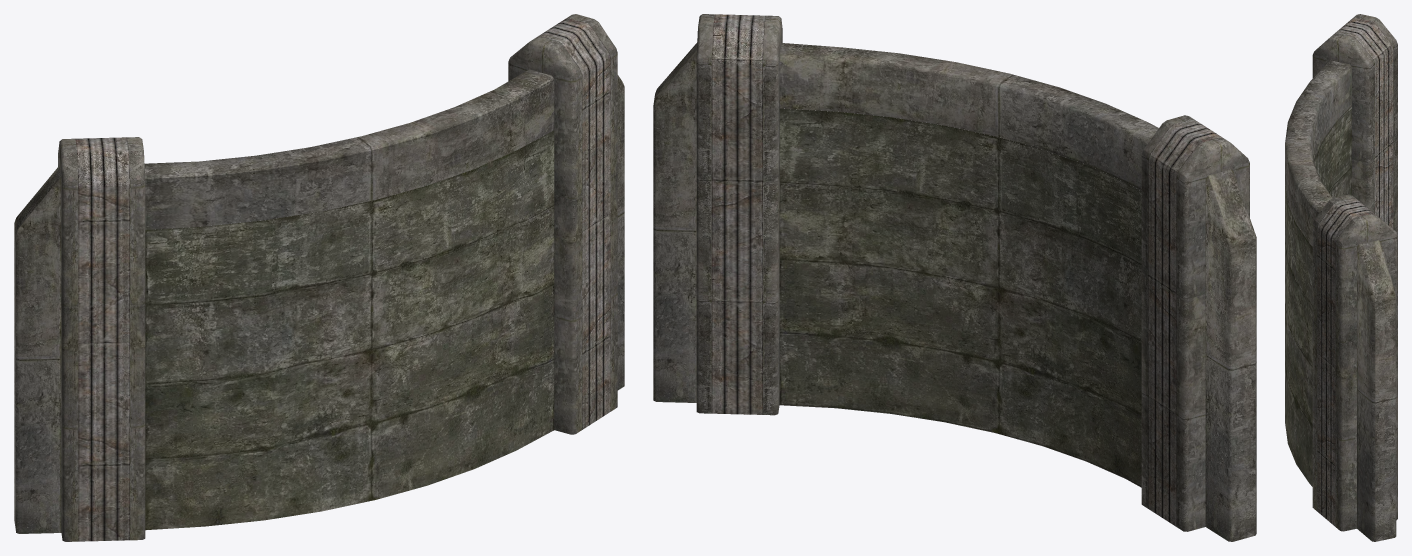
File: eso_gu14_StoneRuinsWall5-transformed.glb
3 renders of one model, left to right at view 1: azimuth 30°, elevation 25°; view 2: azimuth 150°, elevation 25°; view 3: azimuth 270°, elevation 25°, orthographic. The views are drawn at different scales.
Visible parts, largest first — view 1: default; view 2: default; view 3: default.
Part boxes in pixels (x1,y1,x2,y2): default: (14,14,624,541); default: (653,14,1256,541); default: (1285,14,1397,541).
Size of the model in its own units: 19.85 by 11.92 by 3.99.
Materials: 3 (3 with a texture image).
